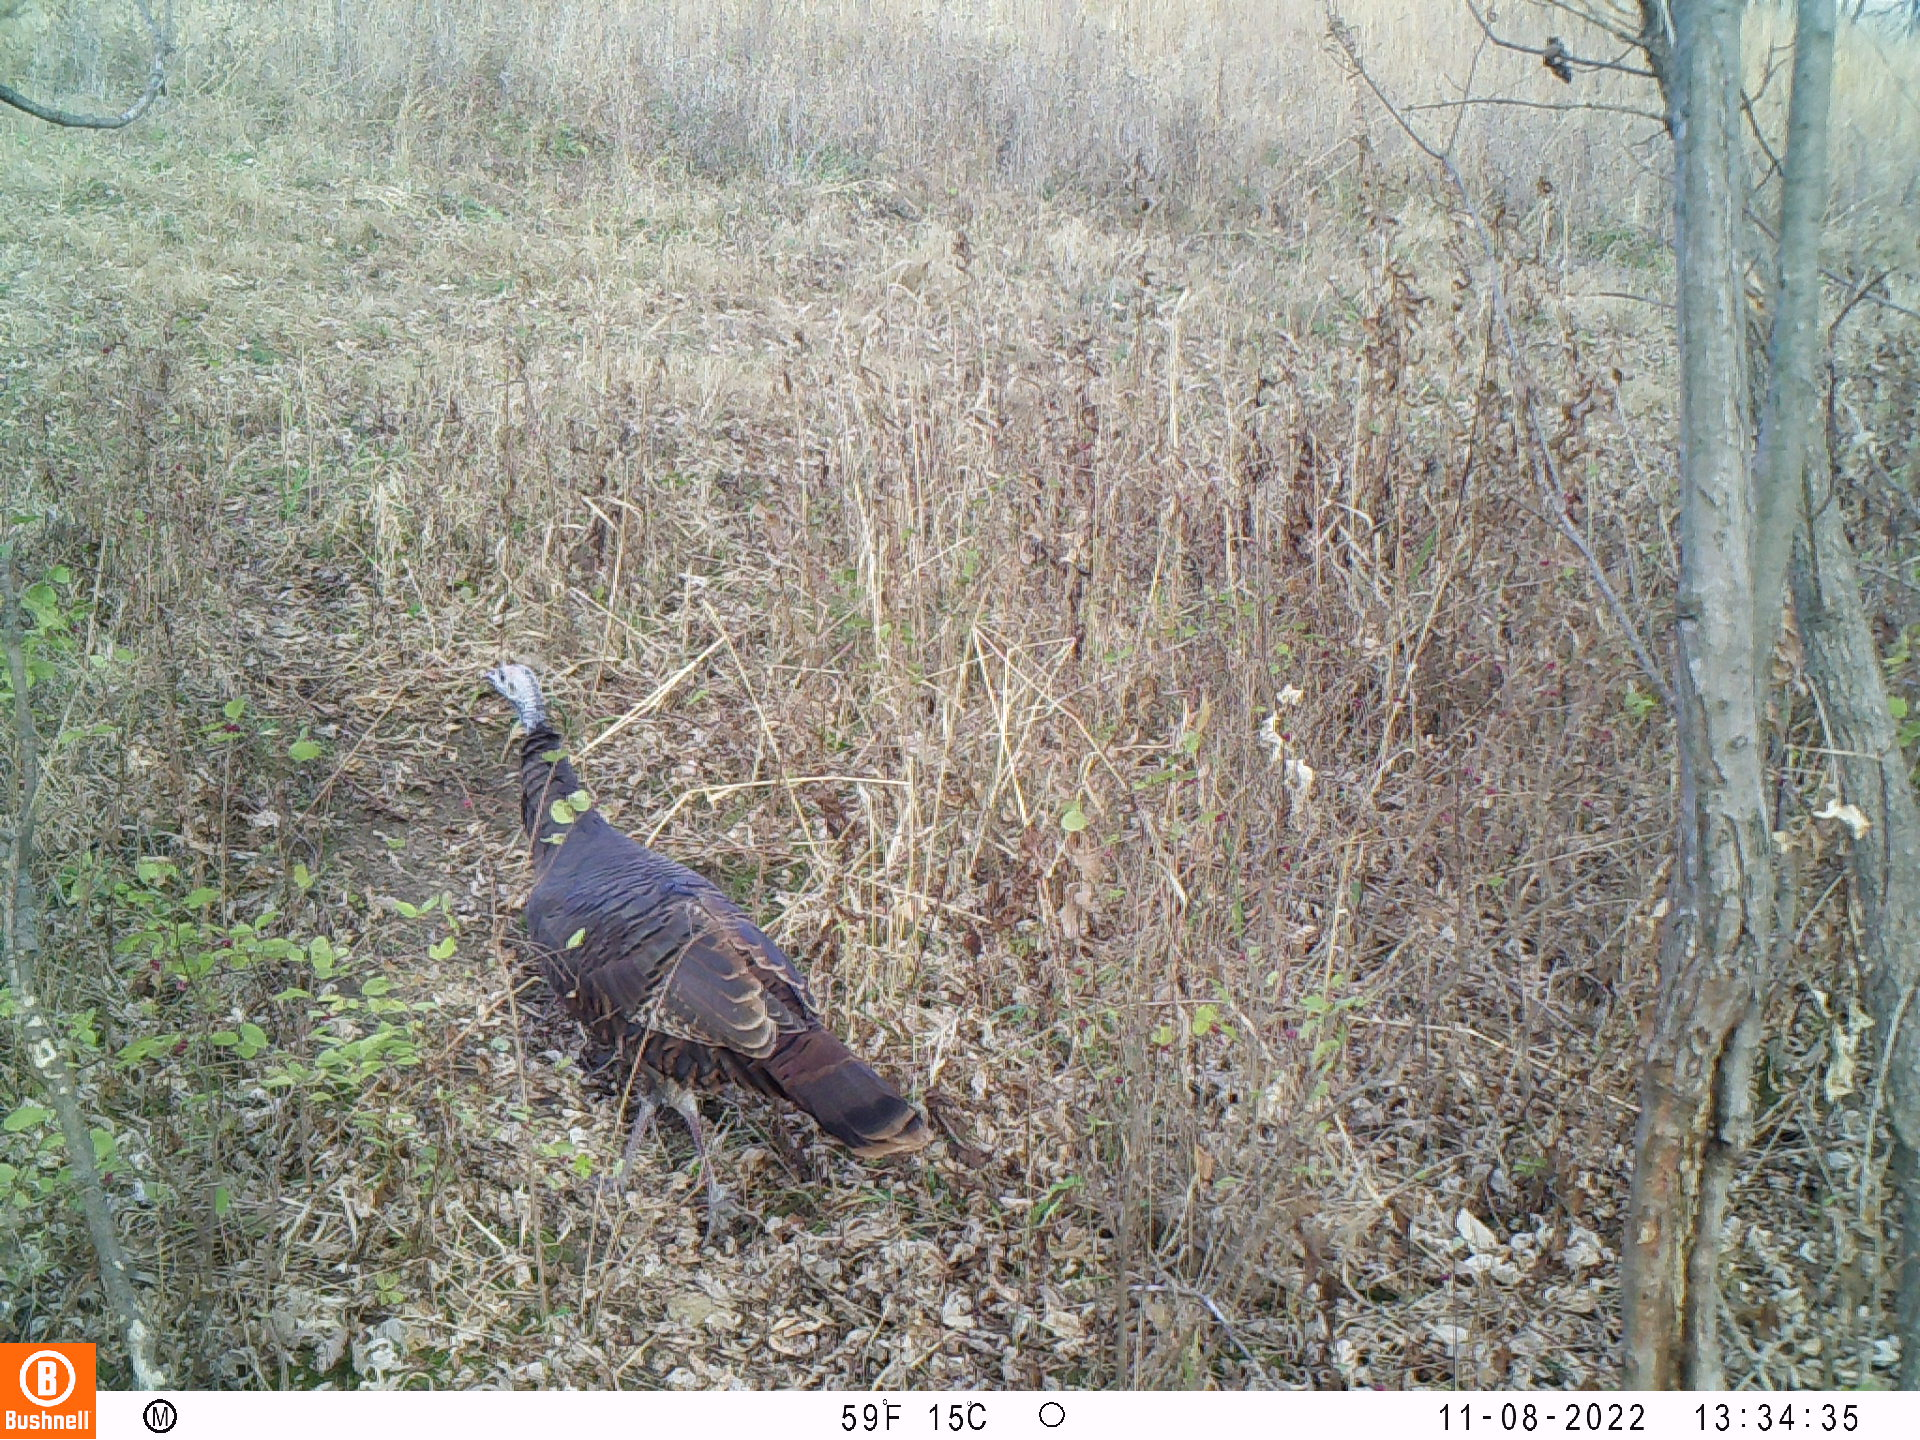Turkey: (475, 656, 934, 1153)
